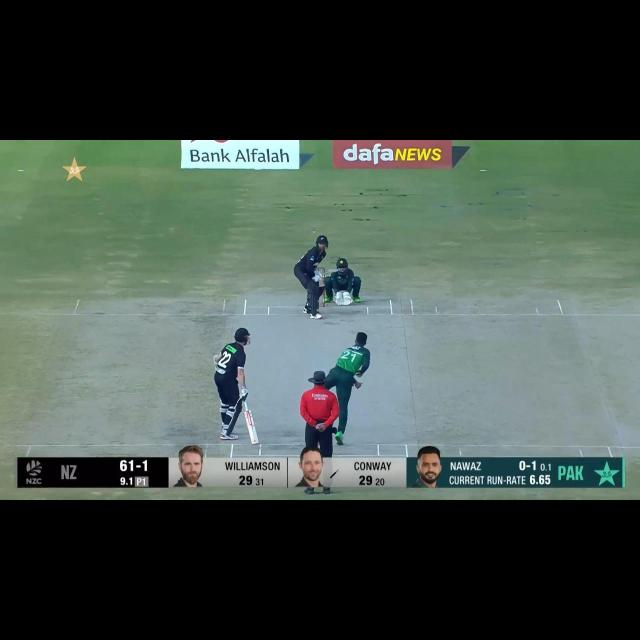bat: (243, 406, 260, 449), (322, 267, 339, 275)
toe: (249, 434, 260, 446), (330, 267, 338, 274)
